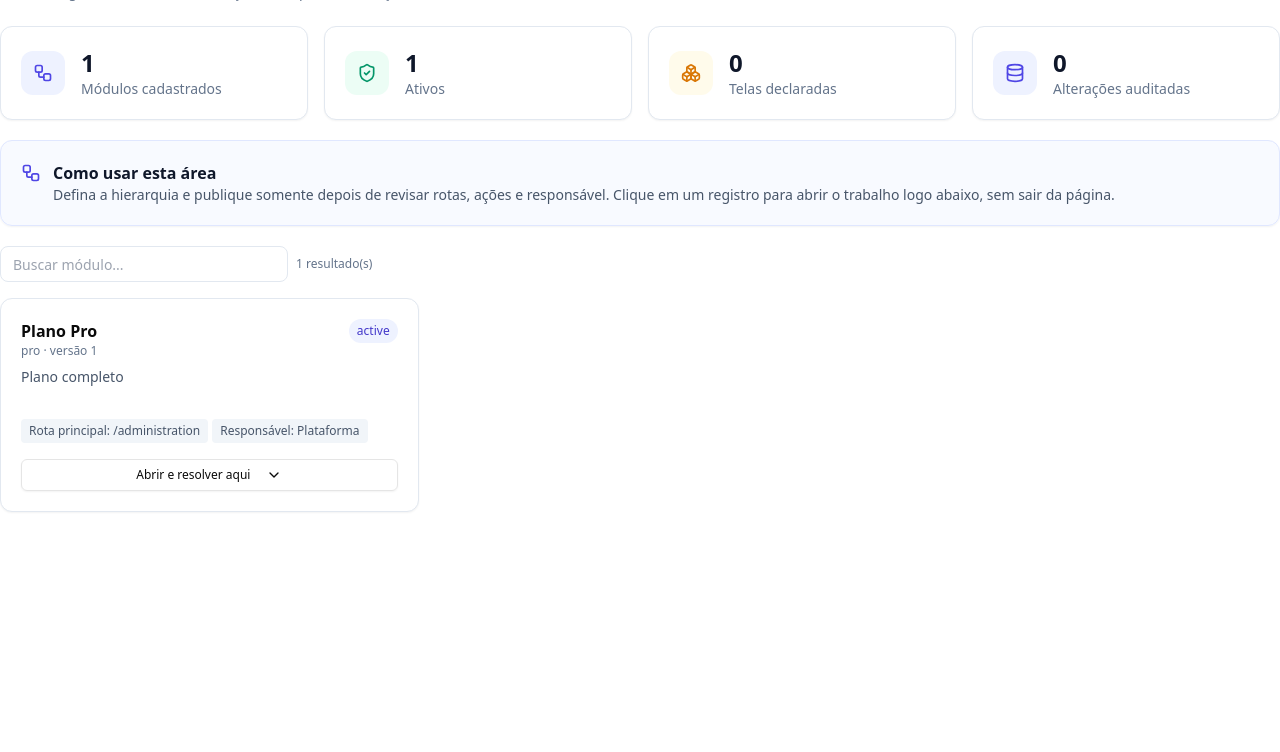
capability centers › gives screen governance its own hierarchy fields
Click the button with aria-label "Abrir Plano Pro" at [209, 475], box [21,459,398,491]
(page scrolled)
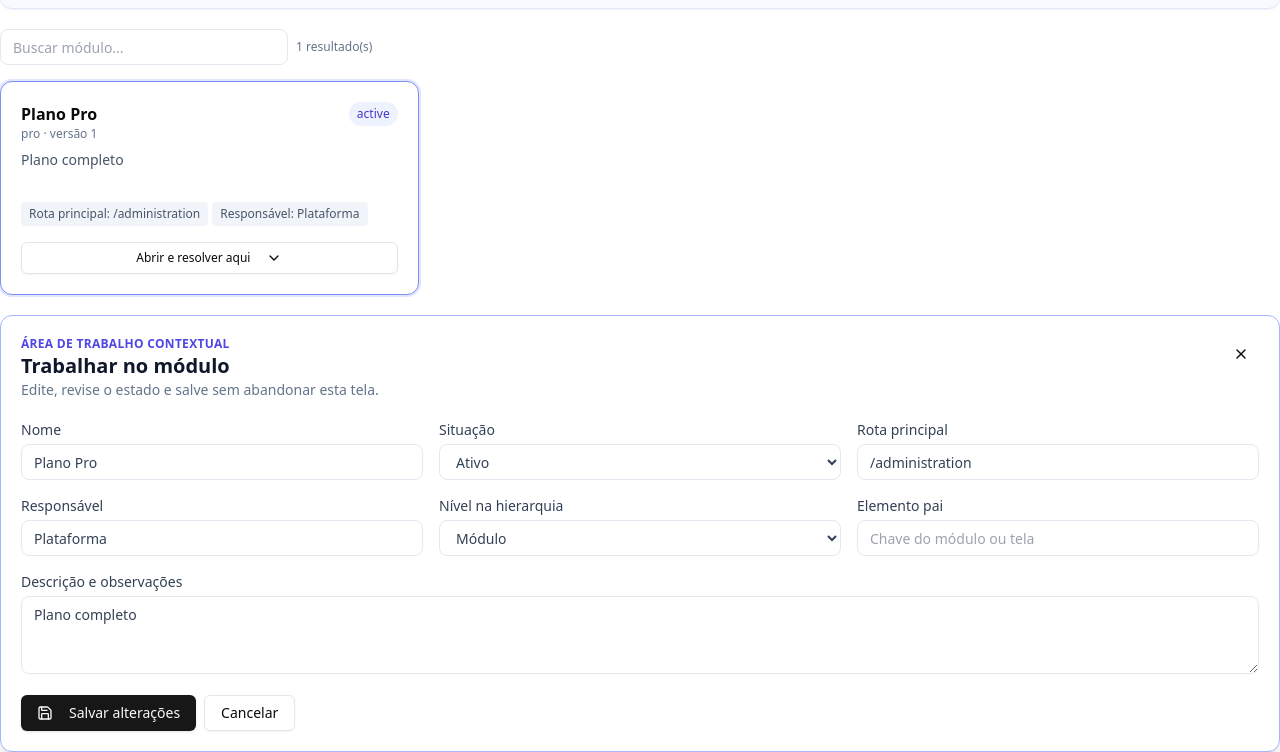
Expected: the heading "Trabalhar no módulo" is shown, [21,352,230,379]
Expected: the field labelled "Rota principal" holds "/administration", [857,444,1259,480]
Expected: the field labelled "Responsável" holds "Plataforma", [21,520,423,556]
